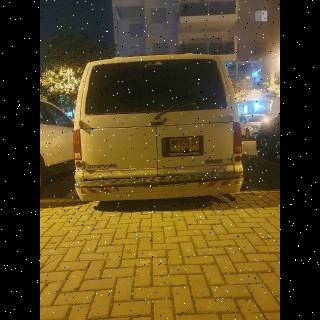LicensePlate: (170, 138, 199, 147)
